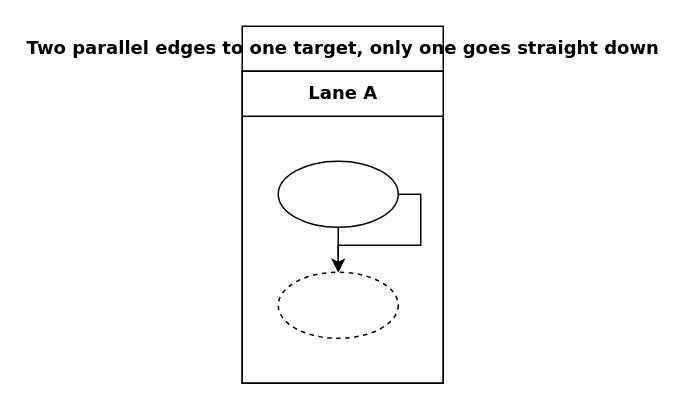
The diagram is 684 pixels wide and 410 high, and some of its shapes have lost their labels. Each missing label, with the centre of its shape:
A-1 x: the point at 337,193
A-2 x: the point at 337,304
